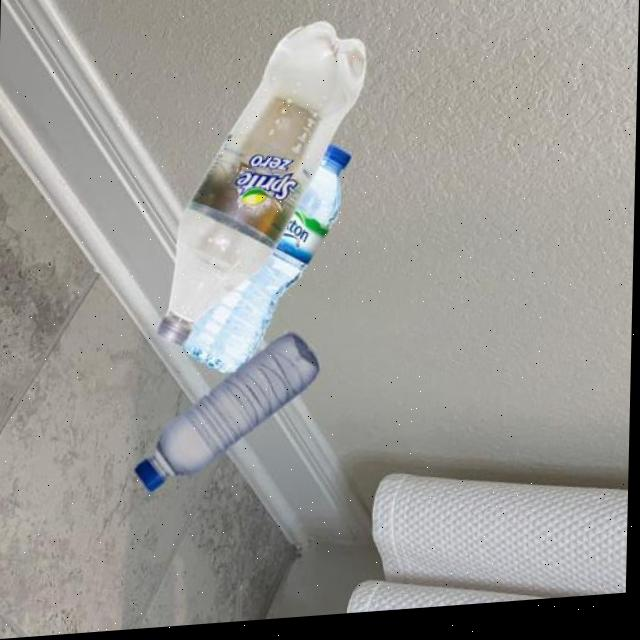bottle: (156, 22, 369, 351), (181, 146, 355, 381), (135, 333, 324, 495)
